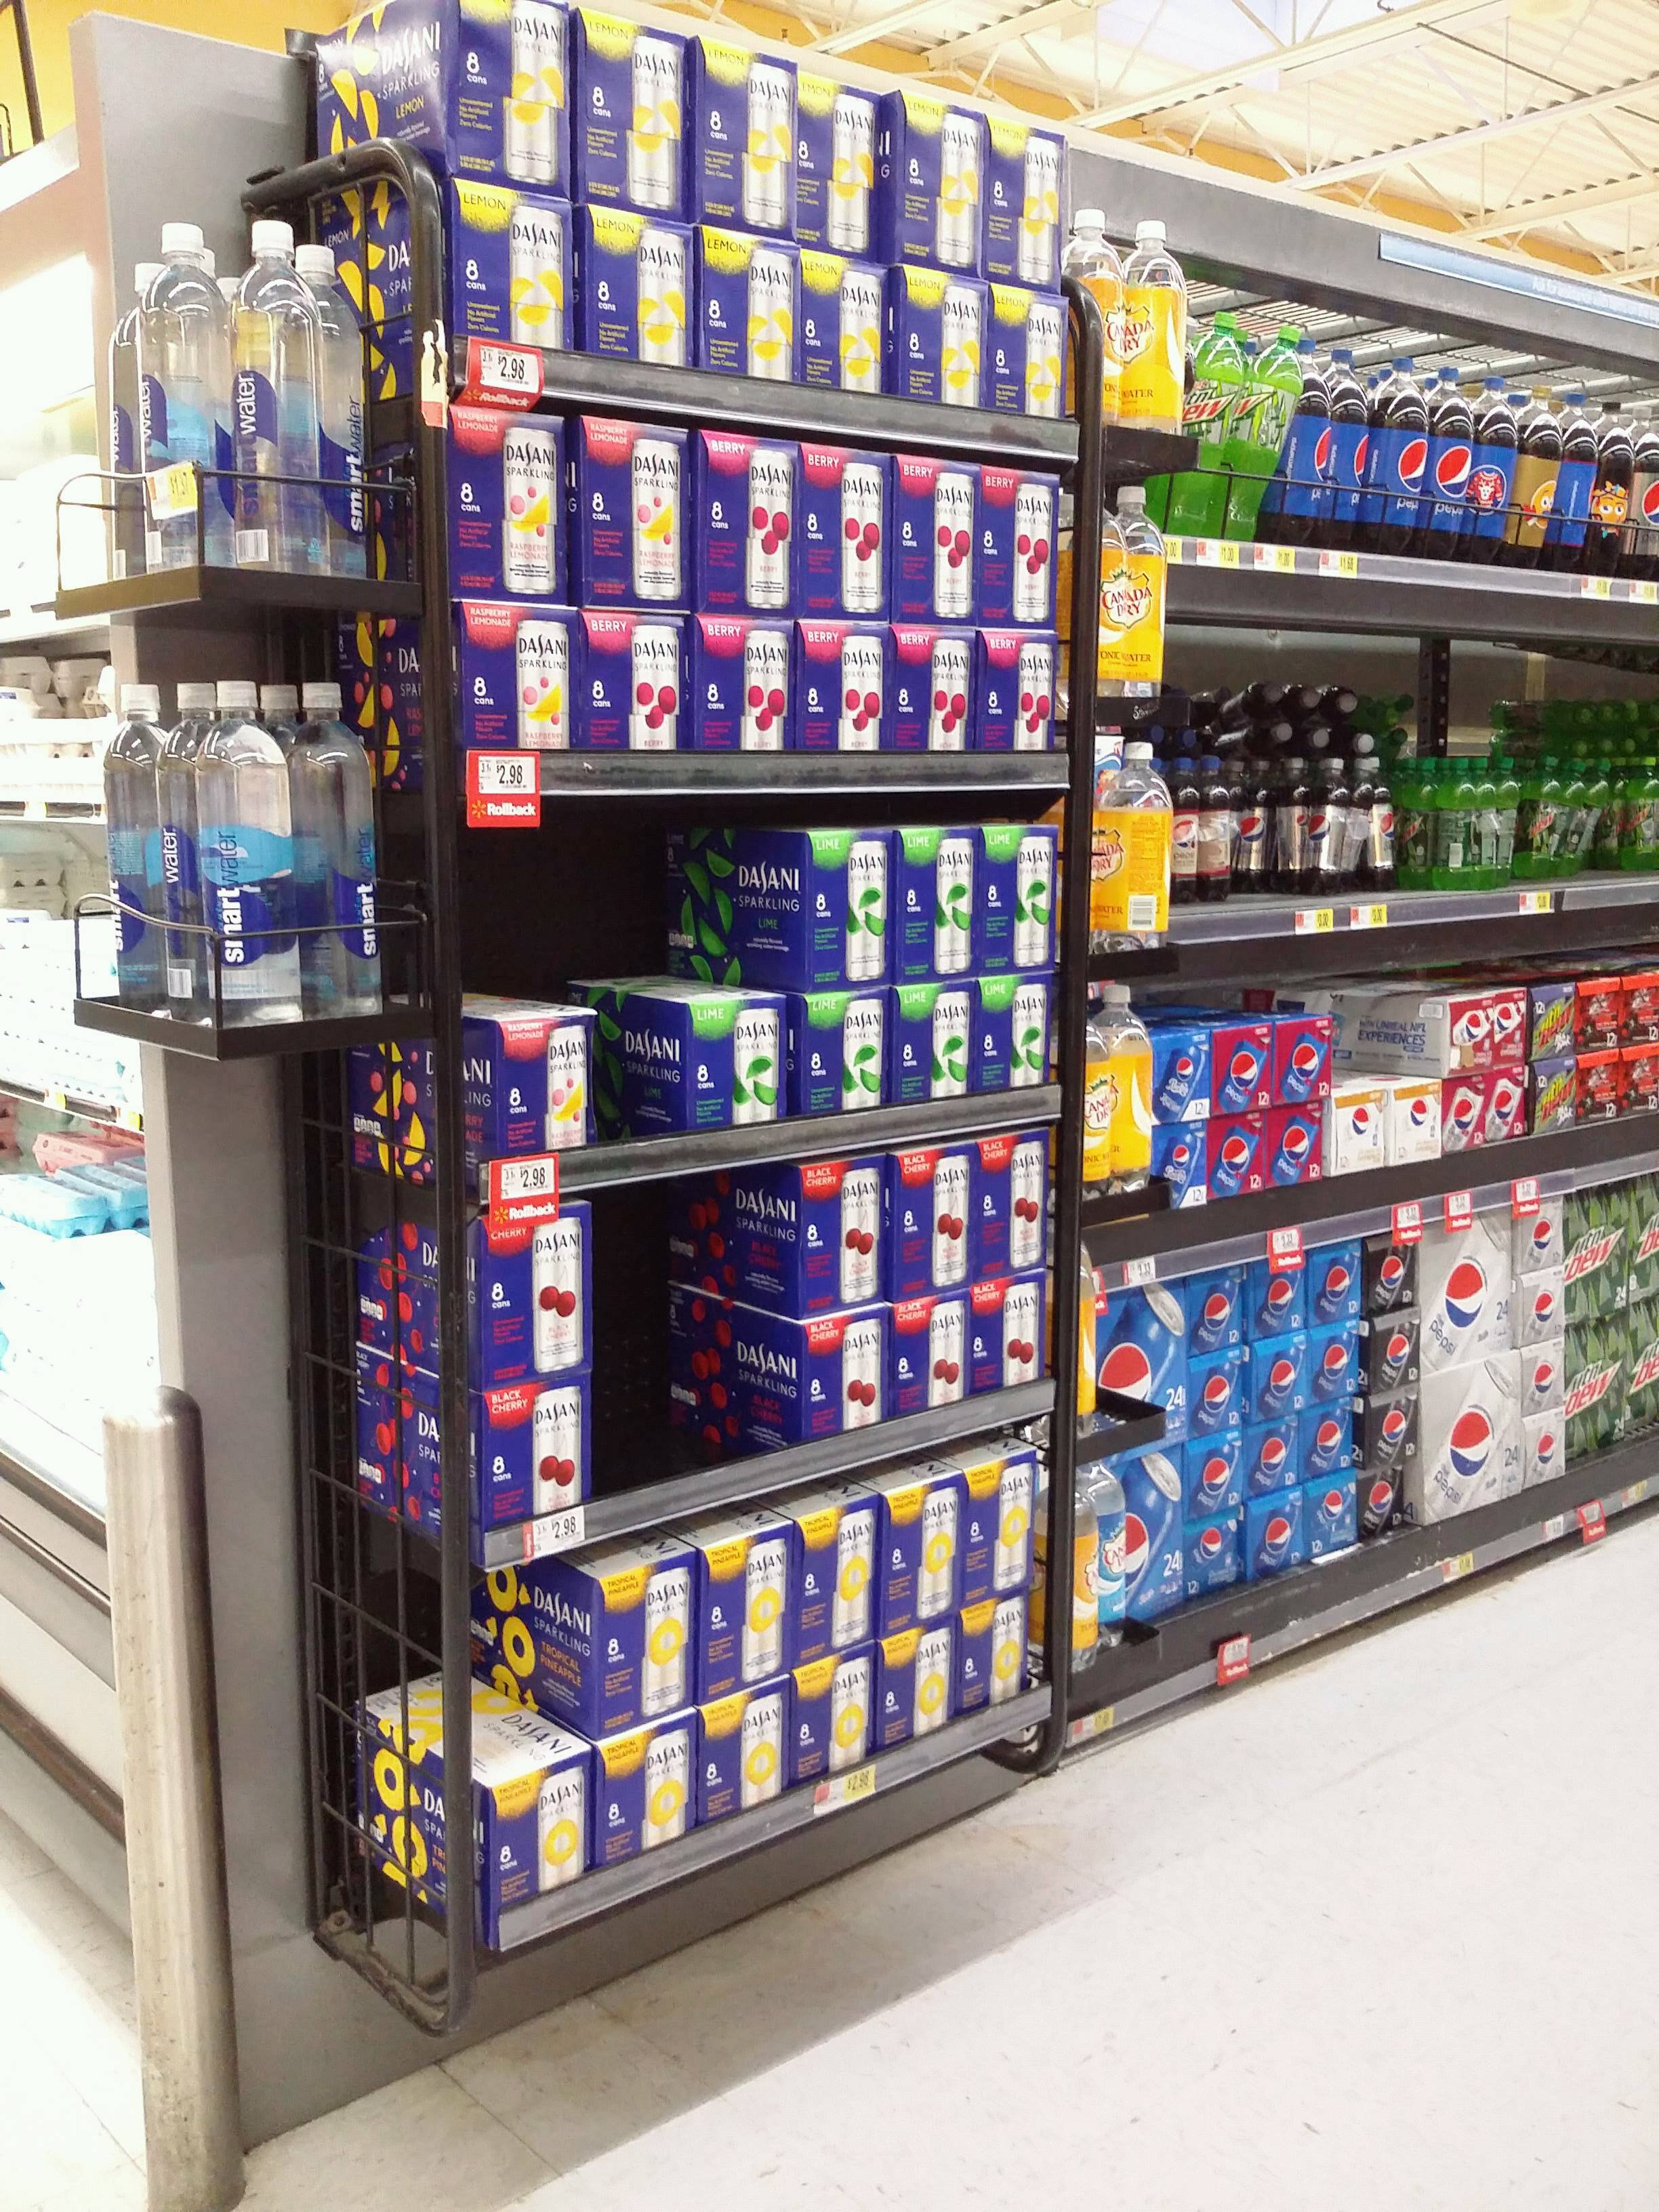product: (197, 683, 298, 1036), (138, 214, 234, 568), (237, 218, 322, 575), (301, 683, 383, 1021), (451, 195, 573, 388), (446, 0, 572, 186), (460, 603, 577, 796), (453, 408, 568, 596), (577, 212, 690, 401), (577, 418, 692, 603), (575, 10, 683, 204), (476, 1207, 591, 1379), (488, 1007, 598, 1184), (476, 1390, 596, 1552), (701, 228, 798, 425), (690, 613, 796, 791), (692, 37, 795, 219), (580, 613, 685, 791), (483, 1773, 591, 1928), (697, 437, 793, 611), (798, 439, 889, 617), (690, 1003, 788, 1163), (1105, 742, 1173, 972), (591, 1564, 688, 1723), (800, 620, 889, 791), (800, 256, 885, 430), (892, 455, 979, 625), (800, 824, 890, 988), (897, 89, 979, 266), (798, 75, 882, 247), (1122, 221, 1182, 463), (971, 627, 1060, 786), (899, 270, 981, 441), (599, 1735, 692, 1885), (697, 1534, 782, 1693), (796, 1160, 885, 1312), (802, 995, 890, 1146), (985, 115, 1066, 279), (1420, 1223, 1516, 1362), (1420, 1367, 1518, 1503), (988, 286, 1066, 453), (326, 253, 366, 578), (1070, 206, 1121, 460), (1185, 312, 1239, 549), (803, 1318, 892, 1461), (1105, 1287, 1183, 1446), (971, 975, 1056, 1120), (892, 627, 969, 787), (697, 1700, 782, 1843), (788, 1510, 873, 1653), (981, 467, 1060, 622), (788, 1660, 871, 1804), (976, 822, 1056, 972), (897, 822, 972, 981), (1244, 324, 1297, 547), (953, 1465, 1039, 1599), (971, 1278, 1051, 1420), (969, 1141, 1051, 1277), (892, 1148, 967, 1294), (894, 986, 969, 1132), (1371, 357, 1424, 556), (897, 1296, 967, 1442), (875, 1632, 950, 1768), (878, 1484, 950, 1625), (1127, 491, 1169, 732), (953, 1606, 1030, 1735), (1112, 986, 1155, 1209), (1049, 1477, 1098, 1672), (1514, 385, 1560, 570), (1425, 366, 1466, 563), (1469, 378, 1511, 564), (1567, 1186, 1626, 1317), (1134, 1453, 1182, 1613), (1568, 1322, 1628, 1449), (1298, 340, 1333, 552), (1096, 496, 1126, 732), (1337, 348, 1370, 550), (1596, 406, 1631, 577), (1101, 1460, 1133, 1648), (1082, 1012, 1110, 1216), (1563, 394, 1593, 575), (1309, 761, 1349, 894), (1073, 1244, 1100, 1439), (1157, 1122, 1211, 1209), (1157, 1031, 1209, 1120), (1237, 756, 1270, 895), (1265, 1104, 1323, 1184), (1300, 1247, 1359, 1324), (1211, 1026, 1270, 1103), (1523, 758, 1560, 881), (1244, 1491, 1302, 1569), (1183, 1350, 1239, 1430), (1272, 1017, 1328, 1097), (1405, 761, 1438, 892), (1363, 761, 1396, 892), (1328, 1096, 1380, 1177), (1274, 756, 1305, 890), (1364, 1312, 1420, 1386), (1243, 1259, 1297, 1336), (1183, 1437, 1237, 1512), (1202, 756, 1230, 900), (1244, 1338, 1297, 1414), (1387, 1085, 1439, 1162), (1213, 1115, 1262, 1197), (1185, 1273, 1241, 1345), (1187, 1519, 1241, 1592), (1633, 415, 1657, 577), (1624, 763, 1659, 874), (1439, 761, 1469, 890), (1629, 1303, 1659, 1430), (1305, 1477, 1354, 1554), (1243, 1420, 1297, 1487), (1304, 1324, 1356, 1393), (1298, 1404, 1349, 1474), (1364, 1233, 1415, 1303), (1176, 761, 1201, 904), (1527, 1059, 1574, 1132), (1631, 1174, 1659, 1296), (1364, 1397, 1415, 1461), (1577, 1052, 1622, 1123), (1448, 998, 1497, 1064), (1518, 1270, 1563, 1339), (1575, 979, 1621, 1047), (1473, 758, 1495, 894), (1582, 763, 1608, 880), (1516, 1198, 1560, 1264), (1521, 1411, 1561, 1482), (1483, 1069, 1523, 1139), (1534, 984, 1572, 1055), (1445, 1078, 1483, 1150), (1358, 1472, 1401, 1531), (1622, 974, 1659, 1043), (1499, 758, 1518, 890), (1624, 1045, 1657, 1116), (1525, 1343, 1561, 1407), (1563, 761, 1582, 880), (1499, 986, 1530, 1055), (1300, 688, 1326, 711), (1178, 728, 1201, 751), (1394, 691, 1419, 712), (1312, 728, 1335, 749), (1338, 693, 1359, 712), (1276, 723, 1295, 744), (1352, 735, 1375, 752), (1269, 683, 1286, 704), (1624, 737, 1642, 756), (1601, 737, 1619, 756), (1628, 704, 1647, 721), (1601, 704, 1621, 721), (1575, 707, 1595, 725), (1394, 728, 1413, 744), (1574, 740, 1591, 756)
